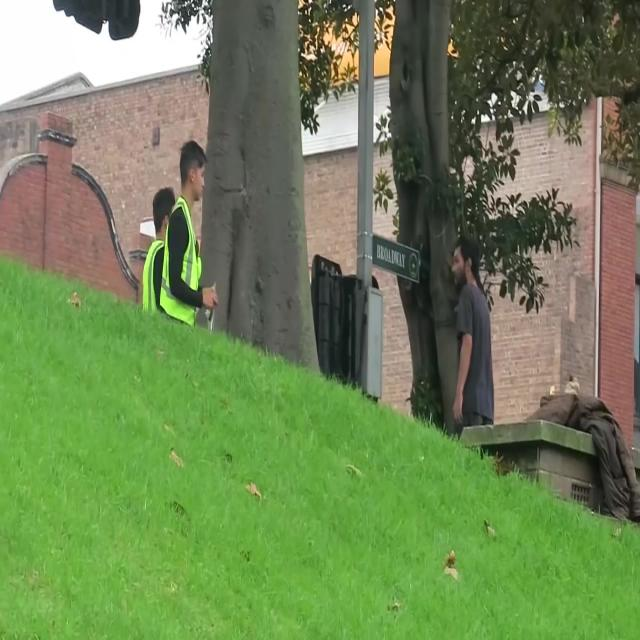Reflective-Jacket: (158, 196, 214, 330), (136, 235, 174, 327)
